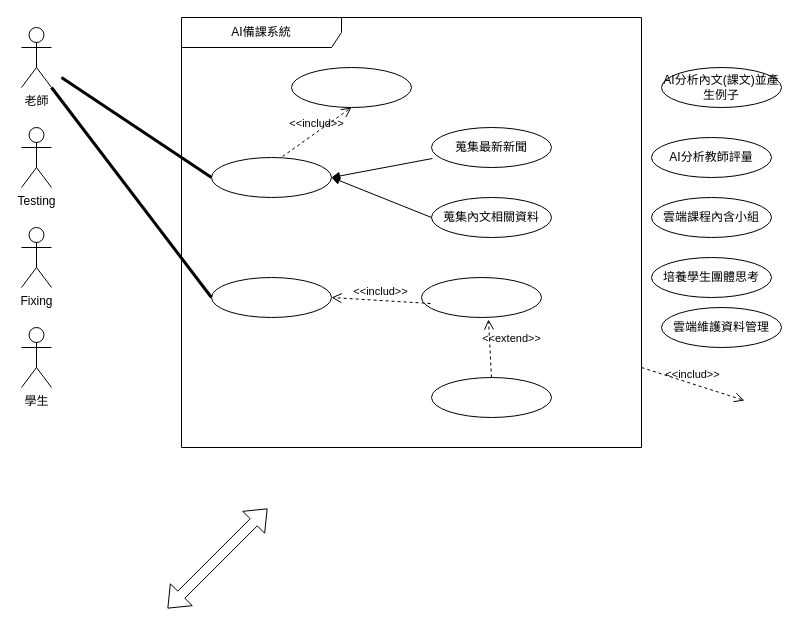
This 799x626 diagram has some shape labels left out. The centre of each missing label's shape, as x and y in pixels:
分析學生上課情形: the point at 481,297
改善建議: the point at 491,397
登入: the point at 351,87
蒐集備課資料: the point at 271,177
觀察學生上課情形: the point at 271,297
